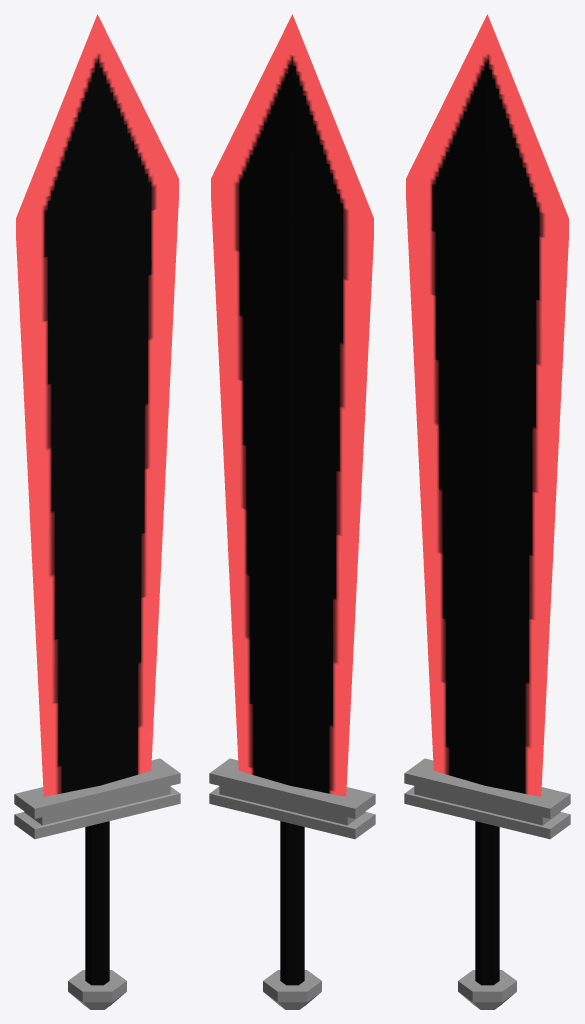
Rendered from Sword.fbx.
3 views of the same model, side by side, from view 1: azimuth 30°, elevation 25°; view 2: azimuth 150°, elevation 25°; view 3: azimuth 330°, elevation 25° (orthographic).
Parts seen in each view (by area): view 1: Cylinder.001; view 2: Cylinder.001; view 3: Cylinder.001.
Boxes of the visible parts, left/top/right/bottom form: Cylinder.001: left=14, top=14, right=180, bottom=1009; Cylinder.001: left=209, top=14, right=375, bottom=1009; Cylinder.001: left=404, top=14, right=570, bottom=1009.
Bounding box in the file's own units: 189 × 1102 × 59.43.
Materials: 1 (1 with a texture image).
